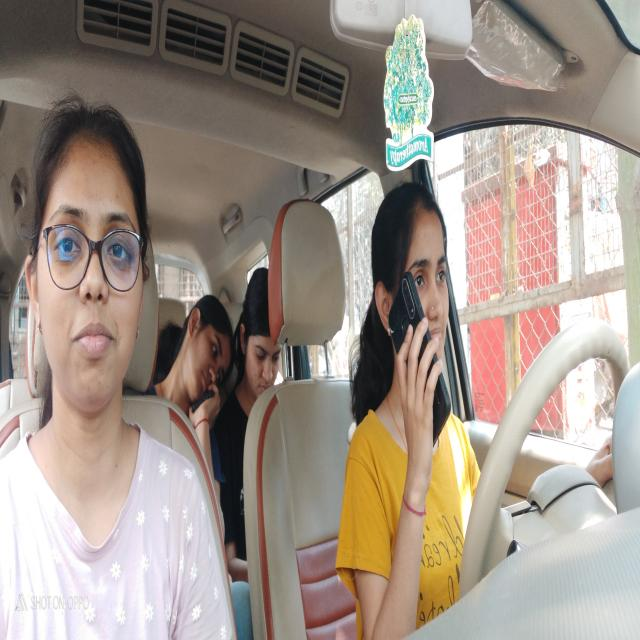mobile: (388, 296, 452, 443)
person: (30, 101, 146, 412), (374, 195, 450, 370), (185, 296, 232, 398), (243, 272, 282, 388)
